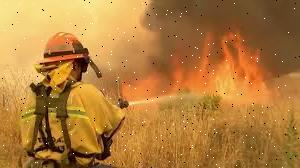fire: (174, 28, 280, 118)
